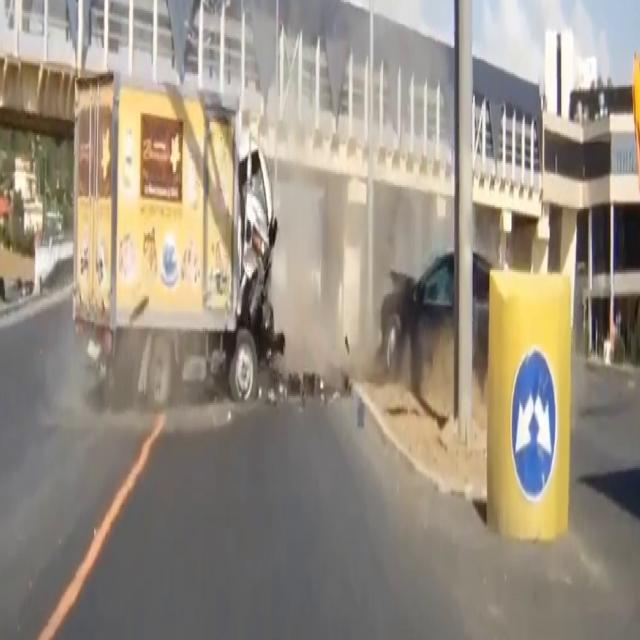accident: (64, 48, 298, 424), (354, 205, 496, 400)
